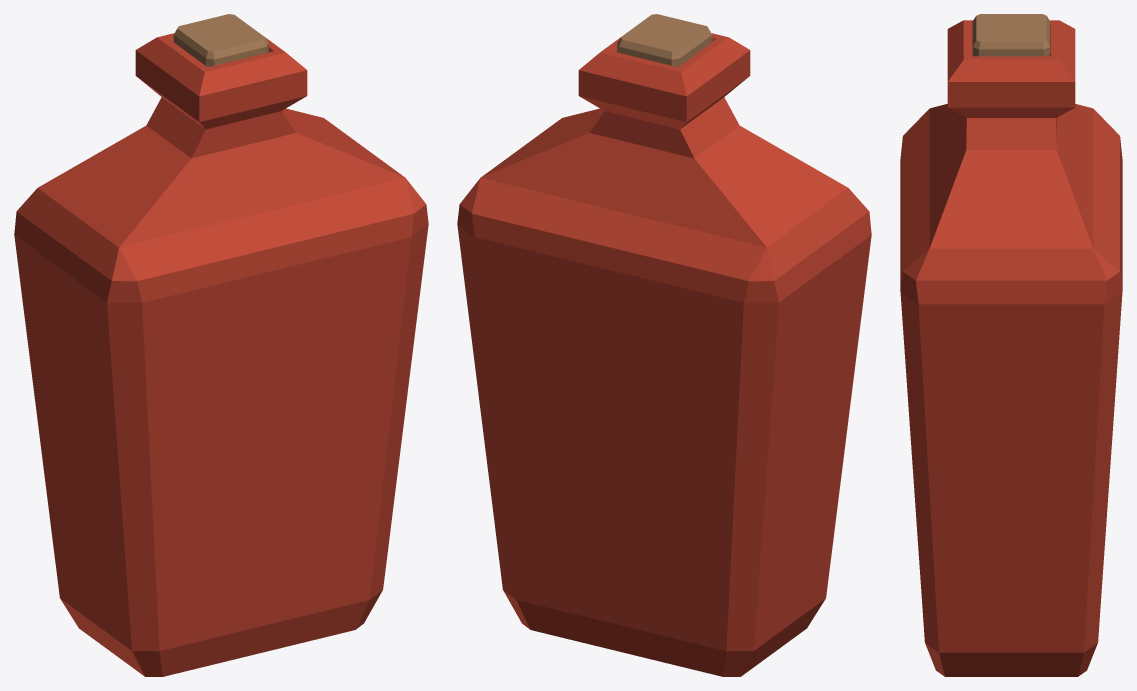
Rendered from Red_Potion_10.fbx.
The picture shows the model from 3 angles, left to right: view 1: azimuth 30°, elevation 25°; view 2: azimuth 150°, elevation 25°; view 3: azimuth 270°, elevation 25°; orthographic projection.
Parts seen in each view (by area): view 1: Red_Potion_10; view 2: Red_Potion_10; view 3: Red_Potion_10.
Boxes of the visible parts, x1,y1,x2,y2 form: Red_Potion_10: [14, 14, 428, 676]; Red_Potion_10: [457, 14, 871, 676]; Red_Potion_10: [900, 14, 1122, 676].
Size of the model in its own units: 22.96 by 40.43 by 13.67.
